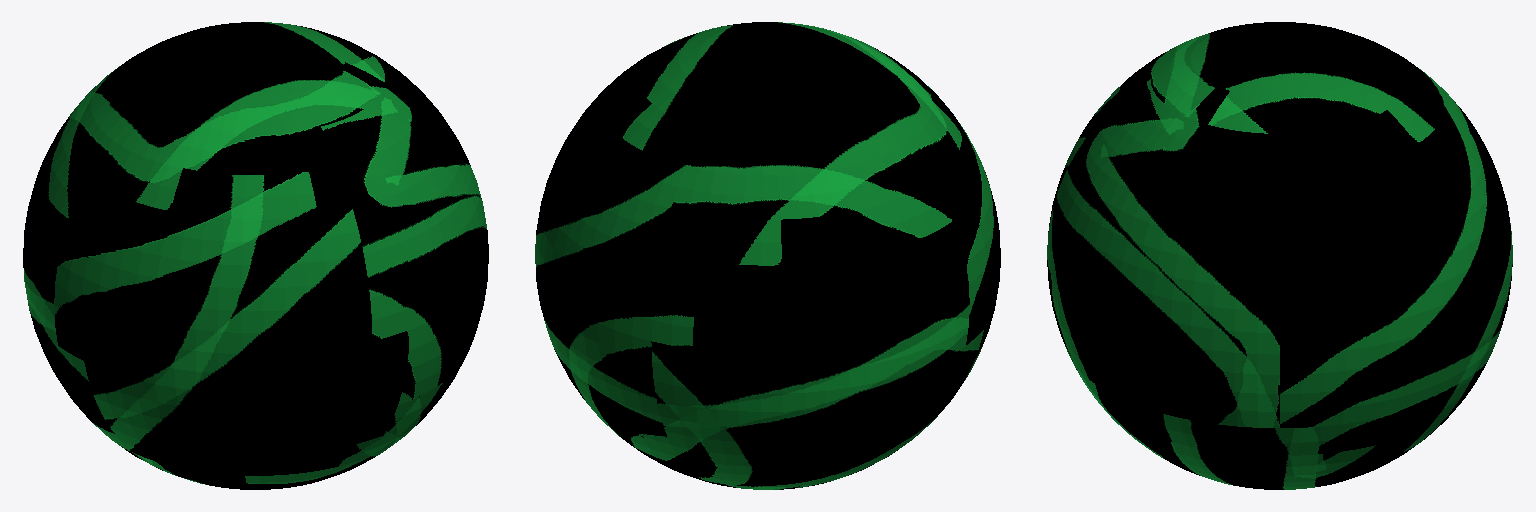
3 renders of one model, left to right at view 1: azimuth 30°, elevation 25°; view 2: azimuth 150°, elevation 25°; view 3: azimuth 270°, elevation 25°, orthographic.
Parts seen in each view (by area): view 1: Sphere; view 2: Sphere; view 3: Sphere.
Boxes of the visible parts, <box> form: Sphere: <box>23,22,488,489</box>; Sphere: <box>535,22,1000,489</box>; Sphere: <box>1047,22,1512,489</box>.
Bounding box in the file's own units: 1.97 × 2 × 1.97.
Materials: 1 (1 with a texture image).